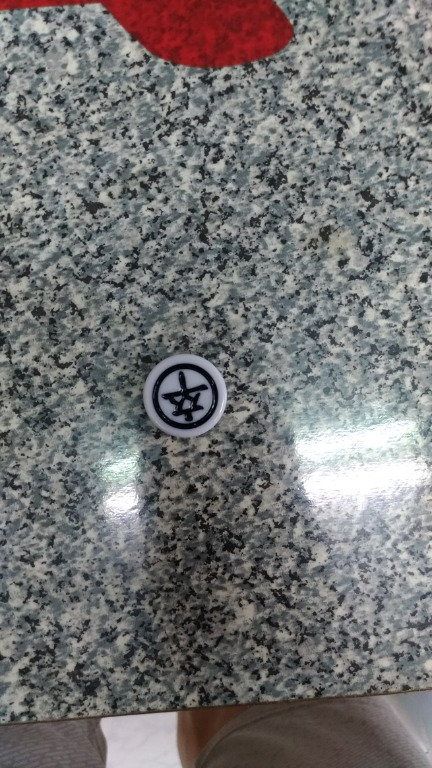b-pawn: (135, 346, 249, 447)
